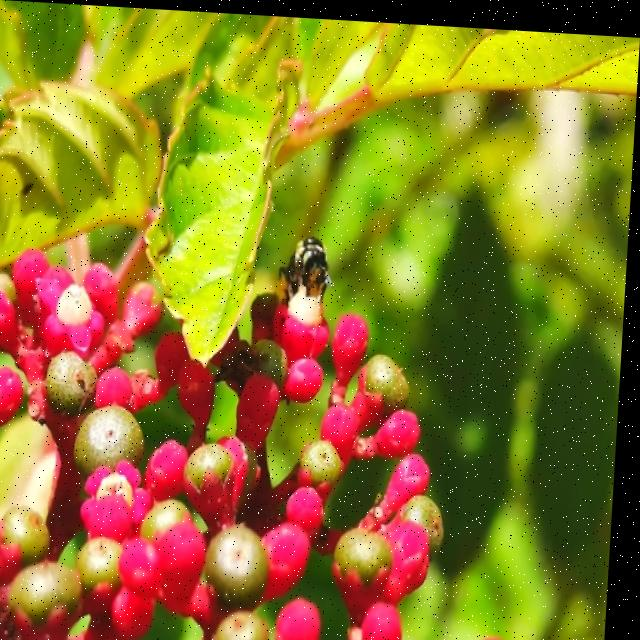Braunsapis: (280, 221, 352, 314)
